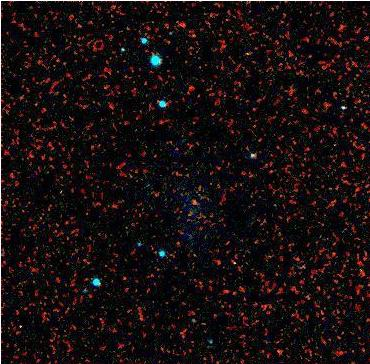star: (181, 186, 211, 216)
